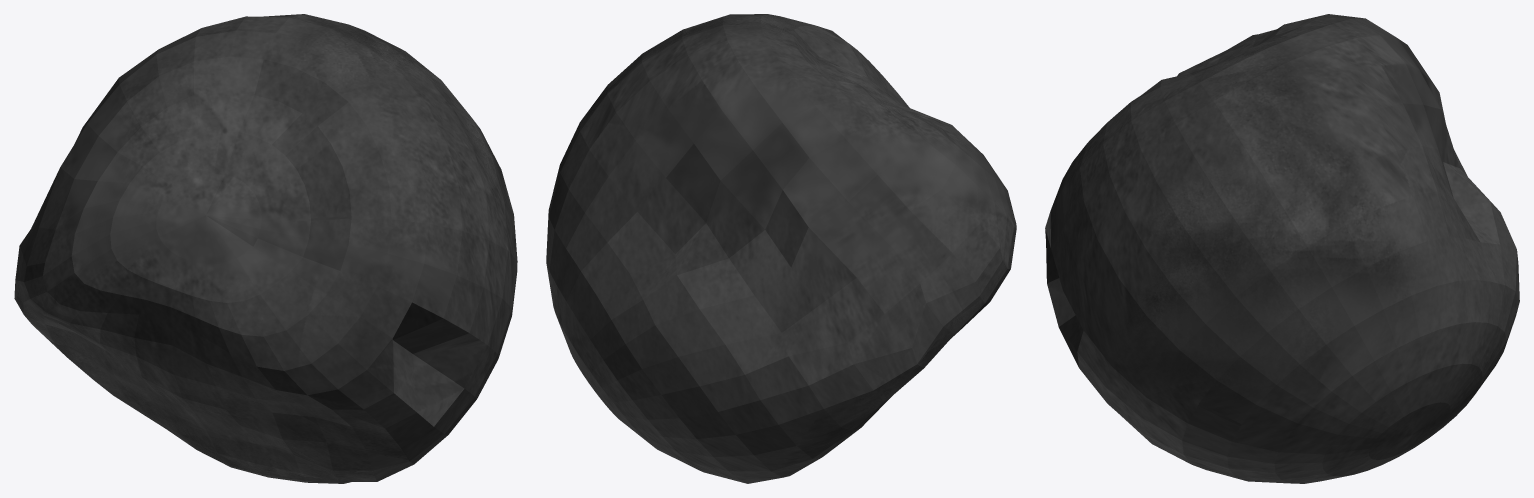
File: Asteroid.fbx
3 views of the same model, side by side, from view 1: azimuth 30°, elevation 25°; view 2: azimuth 150°, elevation 25°; view 3: azimuth 270°, elevation 25° (orthographic). The views are drawn at different scales.
Visible parts, largest first — view 1: Сфера; view 2: Сфера; view 3: Сфера.
Boxes of the visible parts, x1,y1,x2,y2 form: Сфера: (14,14,517,483); Сфера: (546,14,1016,483); Сфера: (1045,14,1519,483).
Size of the model in its own units: 2.53 by 2.42 by 2.42.
Materials: 1 (1 with a texture image).
